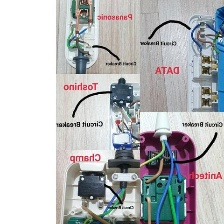three_eye_plug: (140, 114, 200, 224), (57, 150, 140, 223), (184, 9, 223, 112), (62, 0, 101, 71), (107, 77, 140, 151)
